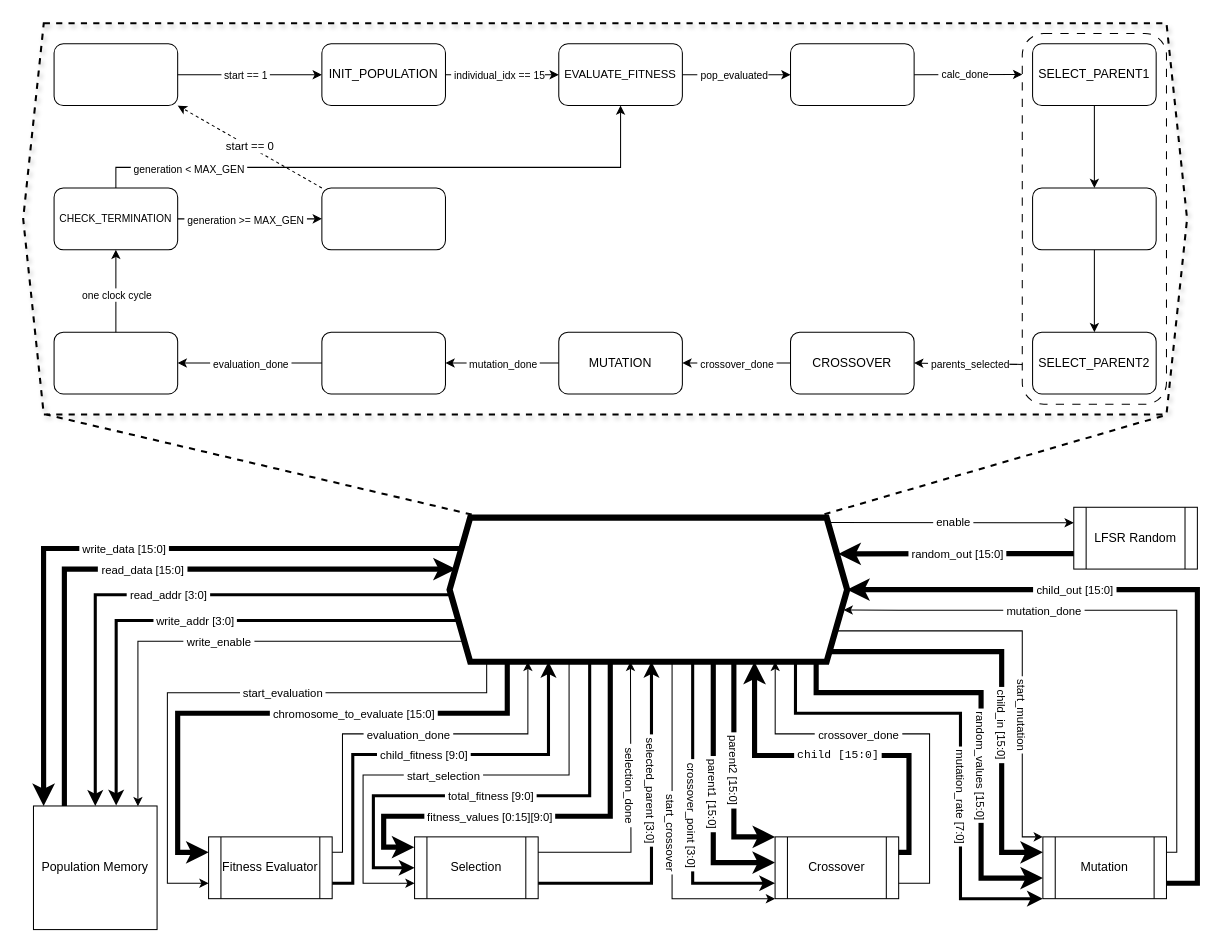
The diagram is 1226 pixels wide and 948 high, and some of its shapes have lost their labels. Each missing label, with the centre of its shape:
"CALC_TOTAL_FITNESS" belongs at (851,74).
"DONE" belongs at (383,218).
"EVALUATE_CHILD" belongs at (383,362).
"FSM - Control Unit" belongs at (648,589).
"IDLE" belongs at (115,74).
"REPLACE_WORST" belongs at (115,362).
"WAIT_BEFORE_PARENT2" belongs at (1094,218).
